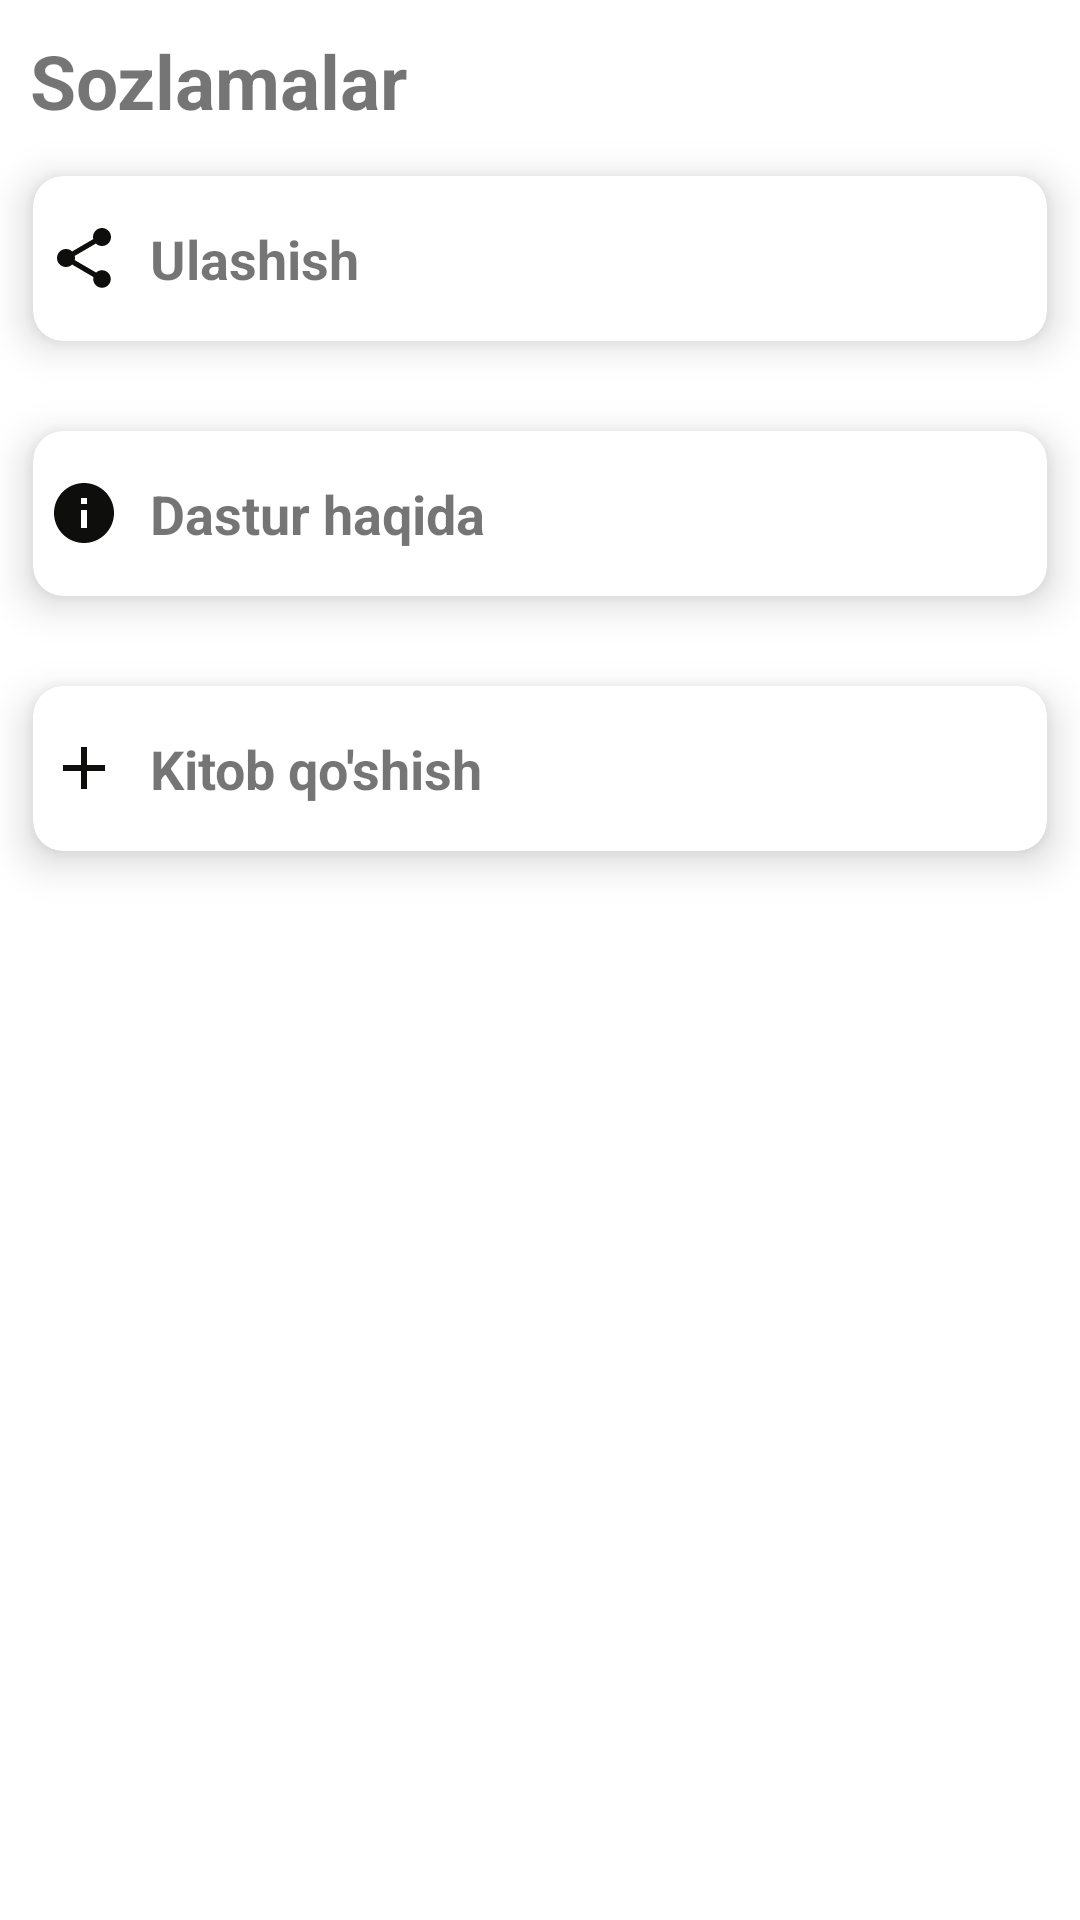

Named icons in this screenshot (1080×1920) and their centers, point (x, y):
add: point (84, 768)
info: point (84, 513)
share: point (84, 258)
